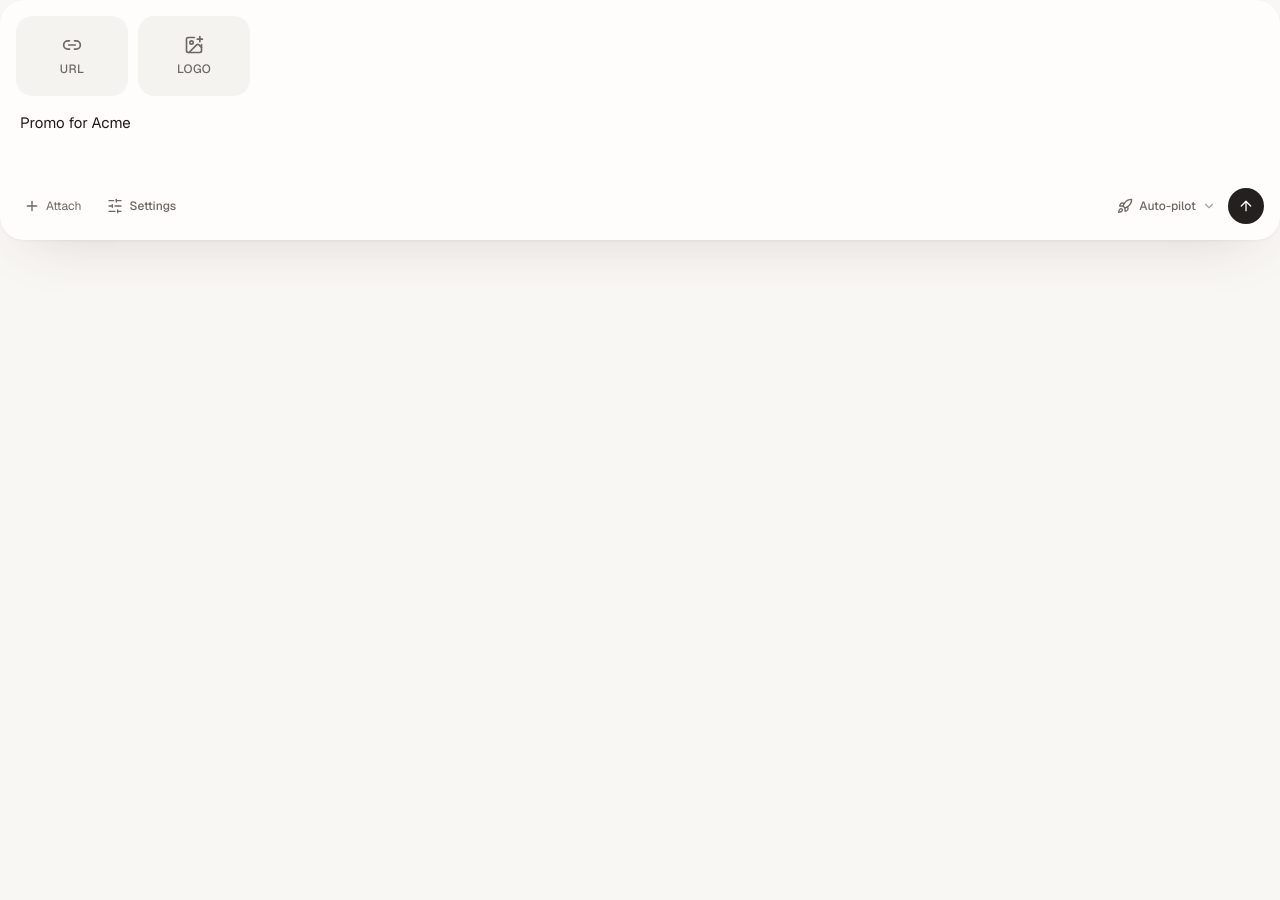
Test: <HomeComposer> public toggle (in video settings) › shows the Free pill in the dialog whenever the grant is available
The image size is (1280, 900).
Click the button with aria-label "video settings" at [142, 206], box [97,190,186,222]
(page scrolled)
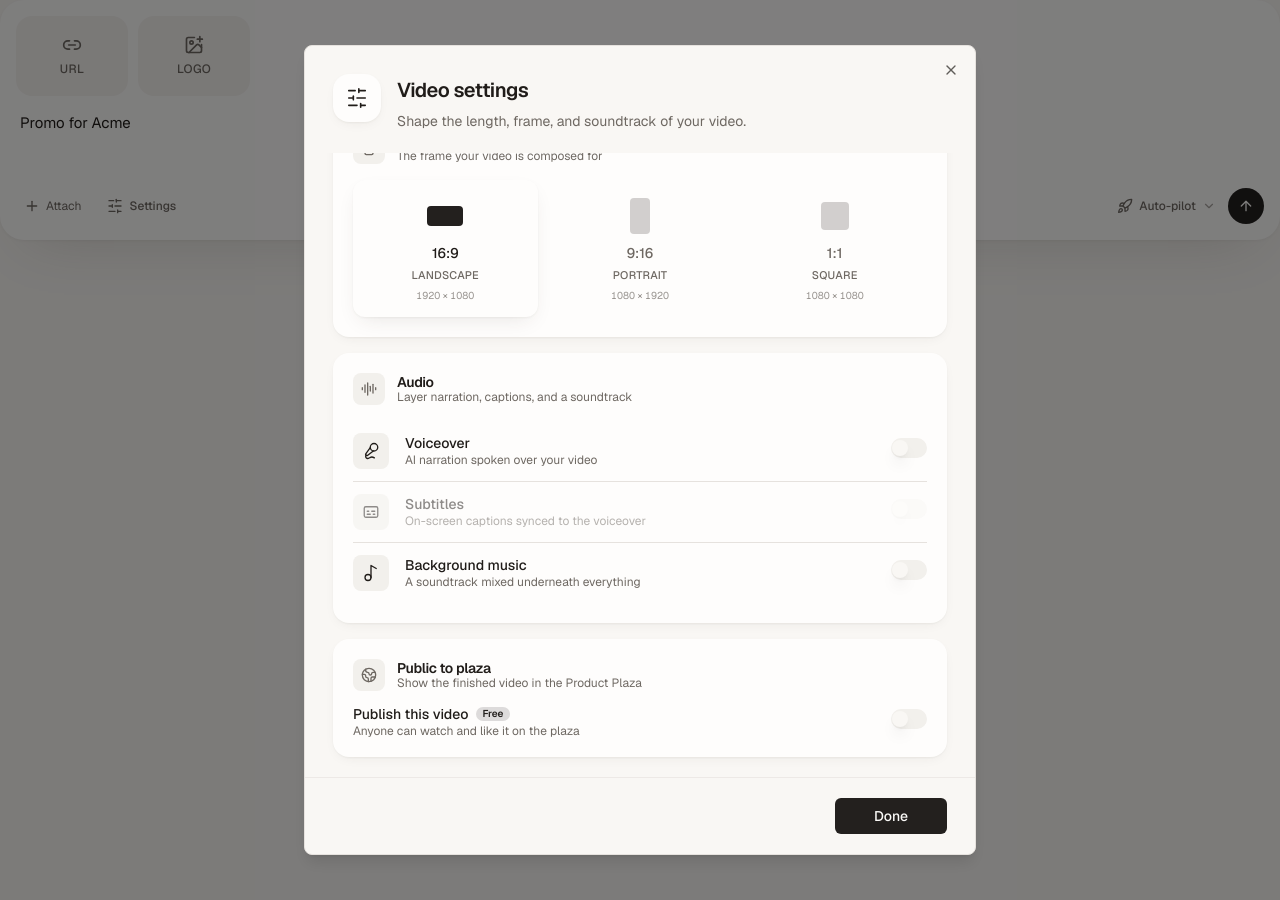
Expected: the text "Free" is shown, [476,707,510,721]
